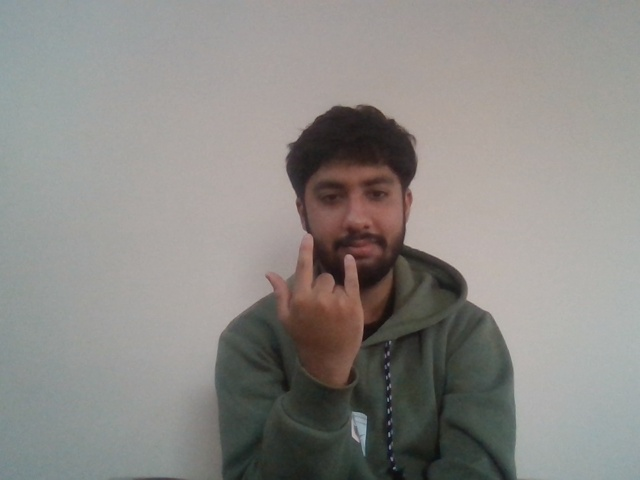IloveYou: (262, 235, 384, 348)
